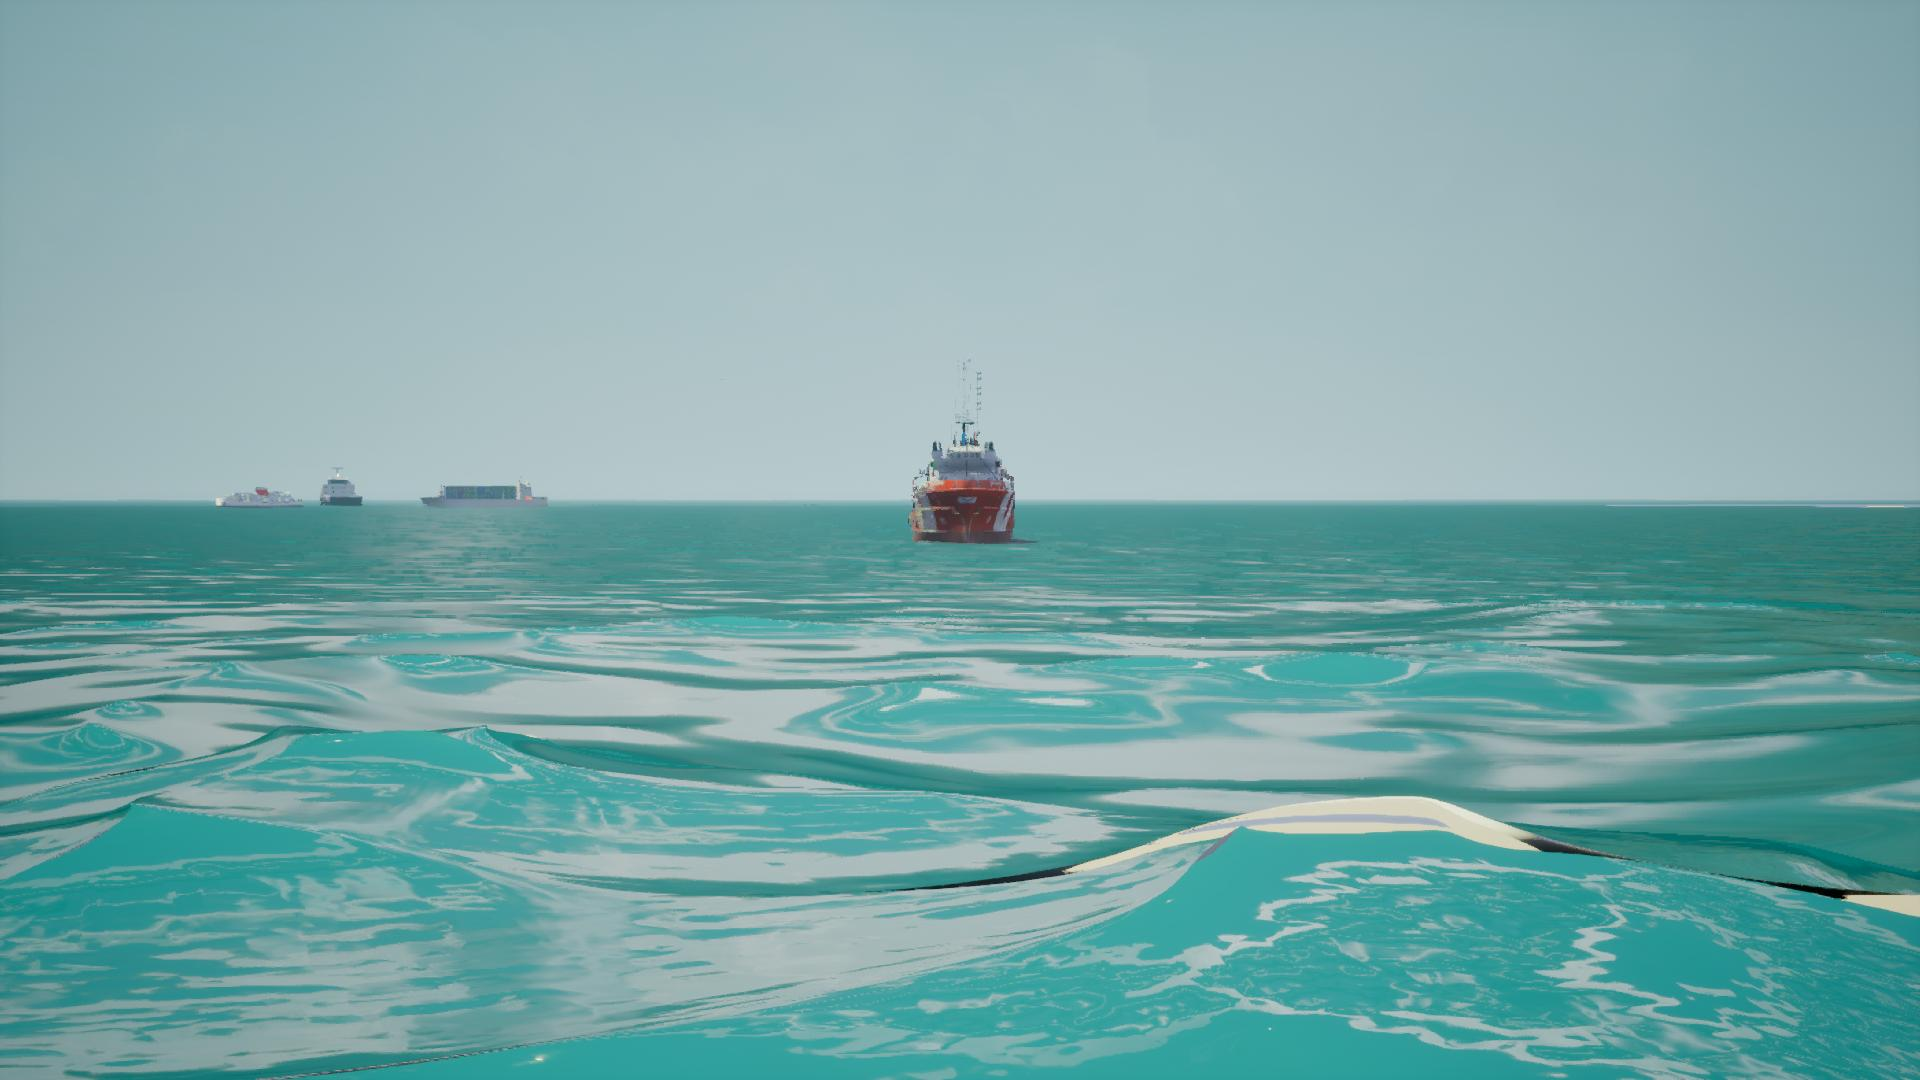Tug Boat: (909, 364, 1023, 545)
